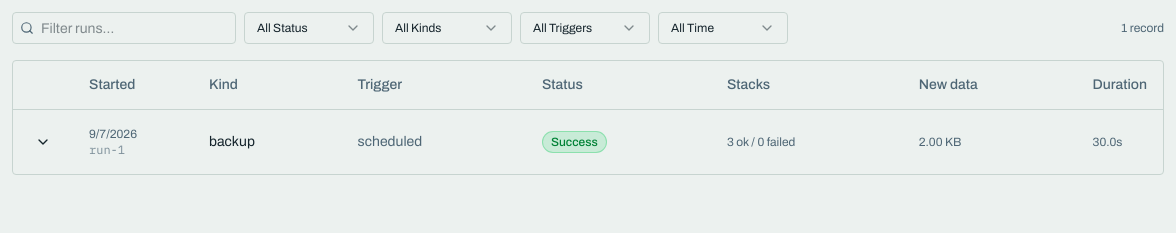
it: BackupHistoryTab — expandable run rows › spans the expanded detail row across every column (agent-os-o9fx)
The image size is (1176, 233).
Check: the text "run-1" is shown, box [89,142,125,156]
Click the button named "Show details for run run-1".
click(43, 142)  # box [29,128,57,156]
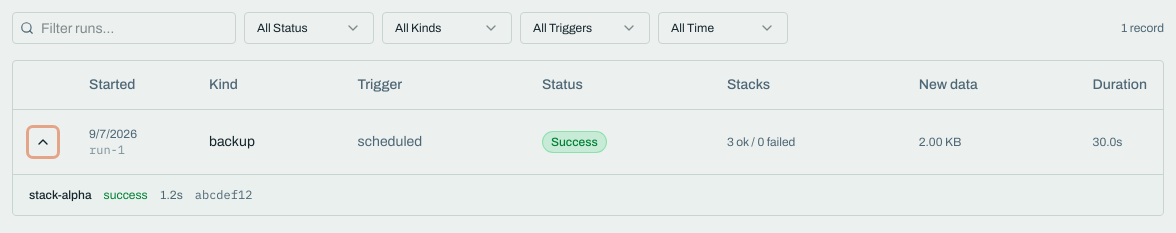
Check: the 1st column heading is shown, box [13,61,73,109]
Check: the text "stack-alpha" is shown, box [29,188,92,202]
